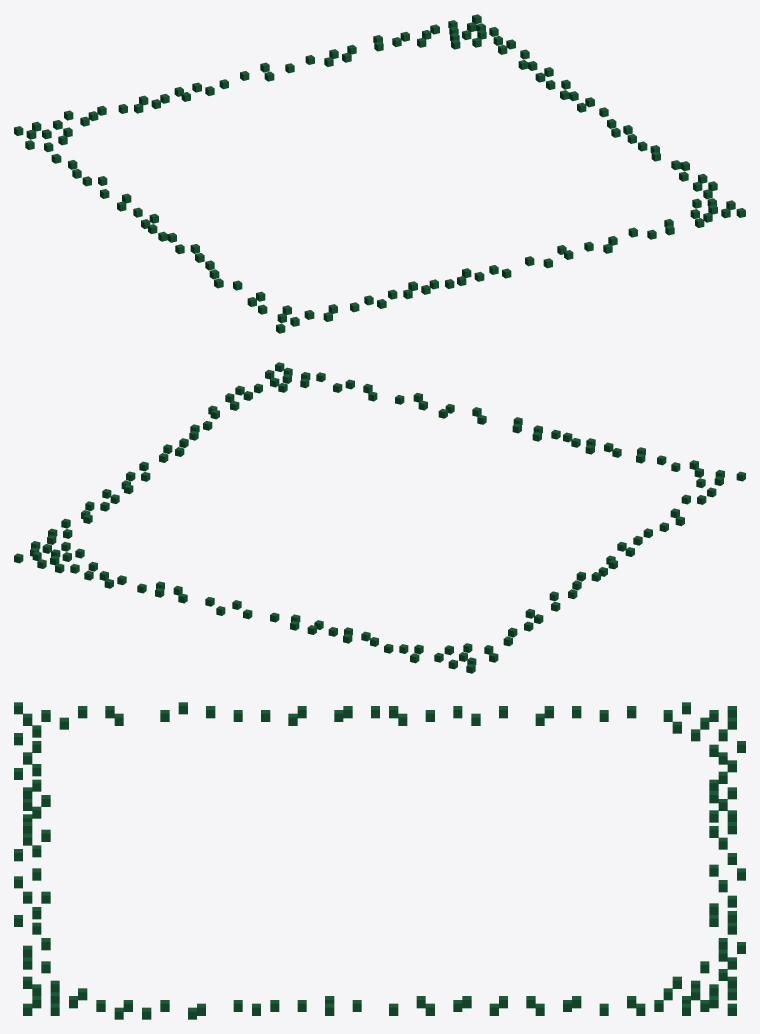
File: grass_4_overtile.glb
The picture shows the model from 3 angles, top to bottom: view 1: azimuth 30°, elevation 25°; view 2: azimuth 150°, elevation 25°; view 3: azimuth 270°, elevation 25°; orthographic projection. The views are drawn at different scales.
Visible parts, largest first — view 1: grass_4_overtile; view 2: grass_4_overtile; view 3: grass_4_overtile.
Part boxes in pixels (x1=…): grass_4_overtile: x1=14, y1=14, x2=745, y2=333; grass_4_overtile: x1=14, y1=362, x2=745, y2=673; grass_4_overtile: x1=14, y1=702, x2=745, y2=1019.
Size of the model in its own units: 8 by 0.1 by 8.
1 material, 1 textured.
